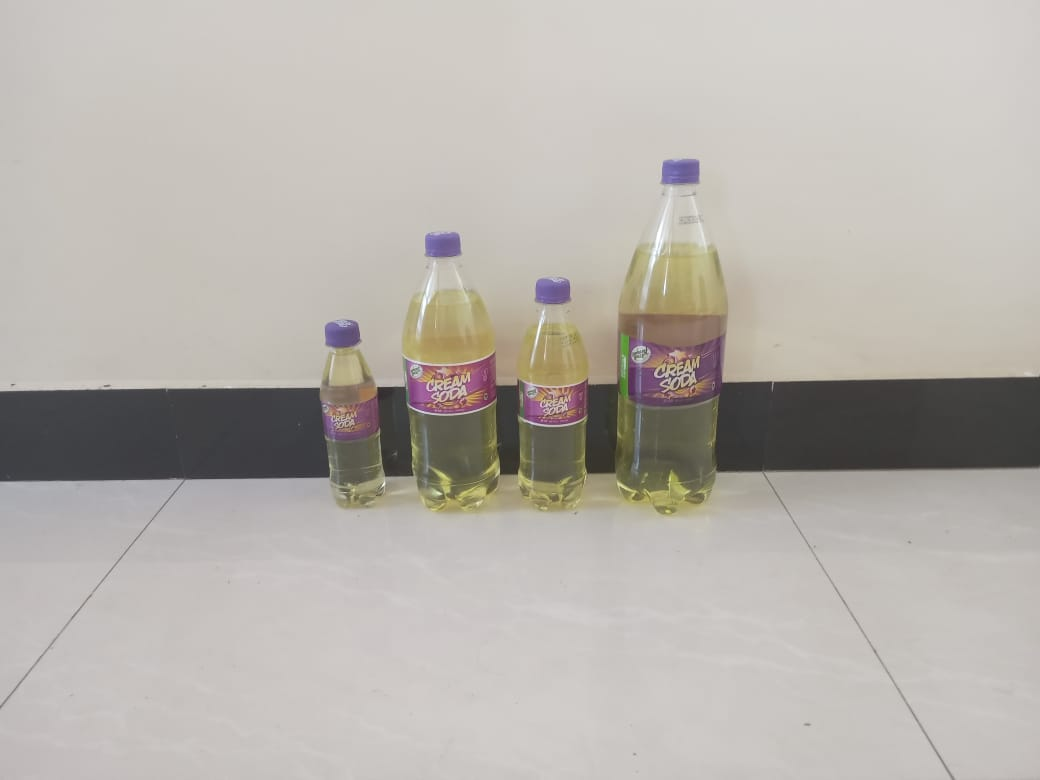L: (616, 160, 728, 518)
M: (401, 226, 502, 518)
S: (509, 278, 600, 515)
Xs: (315, 321, 388, 509)
